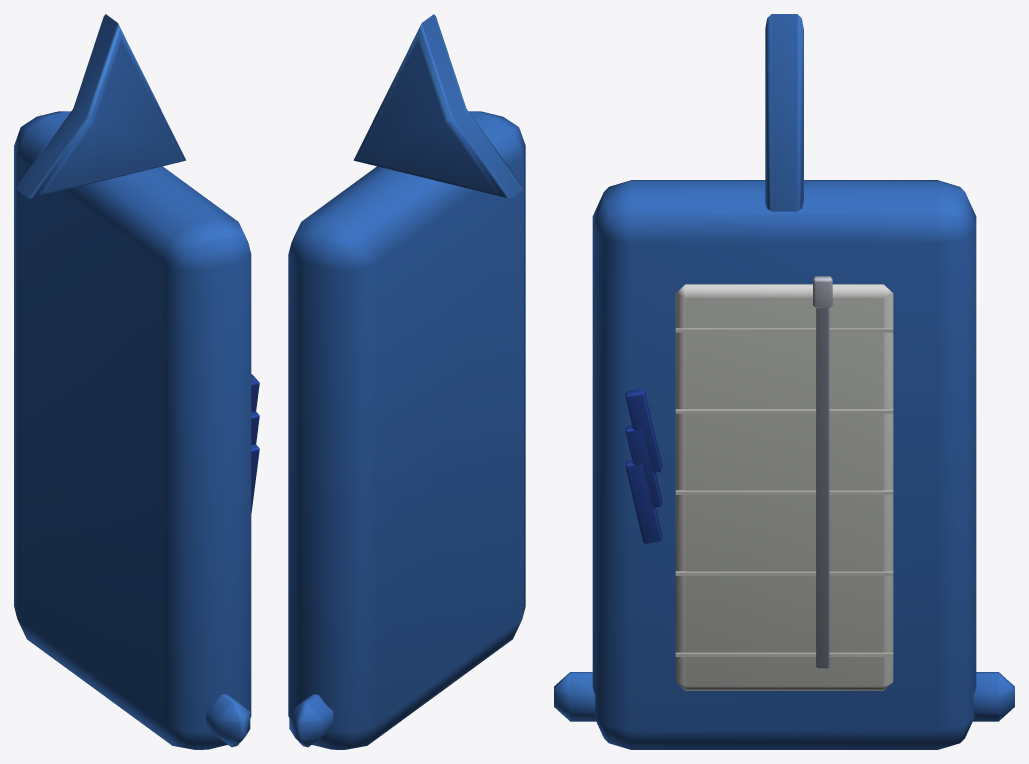
The model's file is SM_Costume_SharkSuit.fbx.
The picture shows the model from 3 angles, left to right: view 1: azimuth 30°, elevation 25°; view 2: azimuth 150°, elevation 25°; view 3: azimuth 270°, elevation 25°; orthographic projection. The views are drawn at different scales.
Visible parts, largest first — view 1: SM_Costume_SharkSuit; view 2: SM_Costume_SharkSuit; view 3: SM_Costume_SharkSuit.
Part boxes in pixels (bbox=[...]): SM_Costume_SharkSuit: bbox=[14, 14, 259, 749]; SM_Costume_SharkSuit: bbox=[288, 14, 525, 749]; SM_Costume_SharkSuit: bbox=[554, 14, 1014, 749].
Bounding box in the file's own units: 32.86 × 124 × 72.11.
